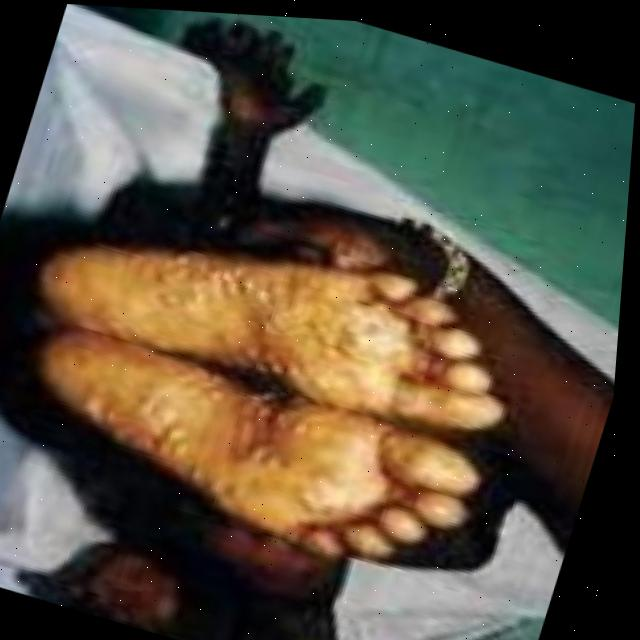Eczema: (82, 227, 473, 522)
